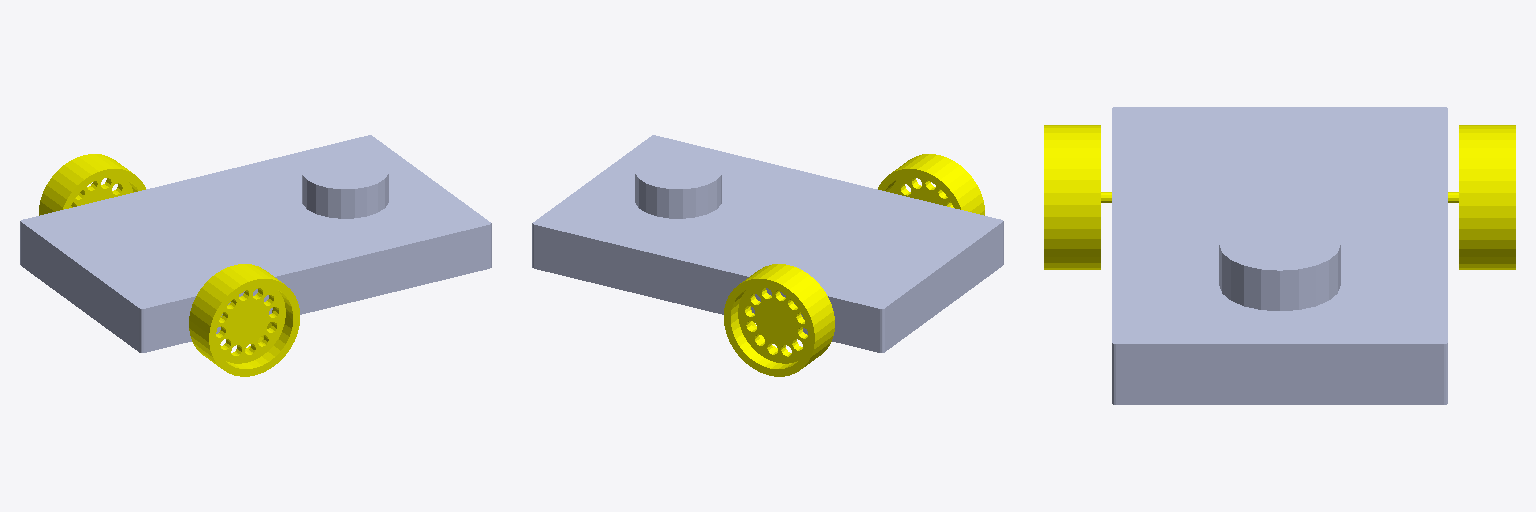
URDF robot description (ddrive_navigation_impl):
<?xml version="1.0" encoding="utf-8"?>
<!-- This URDF was automatically created by SolidWorks to URDF Exporter! Originally created by [author] ([email redacted]) 
     Commit Version: 1.6.0-4-g7f85cfe  Build Version: 1.6.7995.38578
     For more information, please see http://wiki.ros.org/sw_urdf_exporter -->
<robot
  name="ddrive_navigation_impl">
  <link
    name="base_link">
    <inertial>
      <origin
        xyz="-0.0139424640536014 0.0129876081309735 0.00654203268749143"
        rpy="0 0 0" />
      <mass
        value="1.17456295297781" />
      <inertia
        ixx="0.00223044069648703"
        ixy="-6.32626092012459E-05"
        ixz="2.94658978817516E-20"
        iyy="0.00817476268334436"
        iyz="-8.19168823828385E-20"
        izz="0.00617609099246247" />
    </inertial>
    <visual>
      <origin
        xyz="0 0 0"
        rpy="0 0 0" />
      <geometry>
        <mesh
          filename="package://ddrive_navigation_impl/meshes/base_link.STL" />
      </geometry>
      <material
        name="">
        <color
          rgba="0.792156862745098 0.819607843137255 0.933333333333333 1" />
      </material>
    </visual>
    <collision>
      <origin
        xyz="0 0 0"
        rpy="0 0 0" />
      <geometry>
        <mesh
          filename="package://ddrive_navigation_impl/meshes/base_link.STL" />
      </geometry>
    </collision>
  </link>
  <link
    name="left_wheel">
    <inertial>
      <origin
        xyz="-1.38777878078145E-17 -6.93889390390723E-18 0.0323201178441002"
        rpy="0 0 0" />
      <mass
        value="0.0346791977367494" />
      <inertia
        ixx="1.41585015301741E-05"
        ixy="-1.27054942088145E-21"
        ixz="5.35088438039888E-22"
        iyy="1.41585015301741E-05"
        iyz="2.90528349791999E-21"
        izz="2.53540976405827E-05" />
    </inertial>
    <visual>
      <origin
        xyz="0 0 0"
        rpy="0 0 0" />
      <geometry>
        <mesh
          filename="package://ddrive_navigation_impl/meshes/left_wheel.STL" />
      </geometry>
      <material
        name="">
        <color
          rgba="1 1 0 1" />
      </material>
    </visual>
    <collision>
      <origin
        xyz="0 0 0"
        rpy="0 0 0" />
      <geometry>
        <mesh
          filename="package://ddrive_navigation_impl/meshes/left_wheel.STL" />
      </geometry>
    </collision>
  </link>
  <joint
    name="left_joint"
    type="continuous">
    <origin
      xyz="-0.078206903468503 0.0534579673125085 0.0120971032828063"
      rpy="1.5707963267949 0.413063406587512 -3.14159265358979" />
    <parent
      link="base_link" />
    <child
      link="left_wheel" />
    <axis
      xyz="0 0 1" />
  </joint>
  <link
    name="right_wheel">
    <inertial>
      <origin
        xyz="6.93889390390723E-18 1.38777878078145E-17 0.0323201178441002"
        rpy="0 0 0" />
      <mass
        value="0.0346791977367494" />
      <inertia
        ixx="1.41585015301741E-05"
        ixy="2.11758236813575E-21"
        ixz="3.97111338233382E-22"
        iyy="1.41585015301741E-05"
        iyz="1.98976293614101E-22"
        izz="2.53540976405827E-05" />
    </inertial>
    <visual>
      <origin
        xyz="0 0 0"
        rpy="0 0 0" />
      <geometry>
        <mesh
          filename="package://ddrive_navigation_impl/meshes/right_wheel.STL" />
      </geometry>
      <material
        name="">
        <color
          rgba="1 1 0 1" />
      </material>
    </visual>
    <collision>
      <origin
        xyz="0 0 0"
        rpy="0 0 0" />
      <geometry>
        <mesh
          filename="package://ddrive_navigation_impl/meshes/right_wheel.STL" />
      </geometry>
    </collision>
  </link>
  <joint
    name="right_joint"
    type="continuous">
    <origin
      xyz="-0.0782069034685027 -0.0665420326874914 0.0120971032828061"
      rpy="1.5707963267949 1.19119482376332 0" />
    <parent
      link="base_link" />
    <child
      link="right_wheel" />
    <axis
      xyz="0 0 1" />
  </joint>
</robot>

--- Render facts (derived) ---
The picture shows the robot from 3 angles, left to right: view 1: azimuth 30°, elevation 25°; view 2: azimuth 150°, elevation 25°; view 3: azimuth 270°, elevation 25°; orthographic projection.
Robot: ddrive_navigation_impl — 3 links, 2 joints (2 continuous); root link base_link; default pose: every joint at zero.
Visible links, largest first — view 1: base_link, right_wheel, left_wheel; view 2: base_link, left_wheel, right_wheel; view 3: base_link, left_wheel, right_wheel.
Link boxes in pixels (x1,y1,x2,y2): base_link: [20, 135, 491, 352]; right_wheel: [189, 264, 299, 376]; left_wheel: [39, 154, 145, 215]; base_link: [532, 135, 1003, 352]; left_wheel: [724, 264, 834, 376]; right_wheel: [878, 154, 984, 215]; base_link: [1112, 107, 1447, 404]; left_wheel: [1448, 125, 1515, 269]; right_wheel: [1044, 125, 1111, 269].
Size in the robot's own frame: 0.25 by 0.21 by 0.0675 metres.
3 mesh visuals loaded from 3 distinct referenced files (3 binary STL).